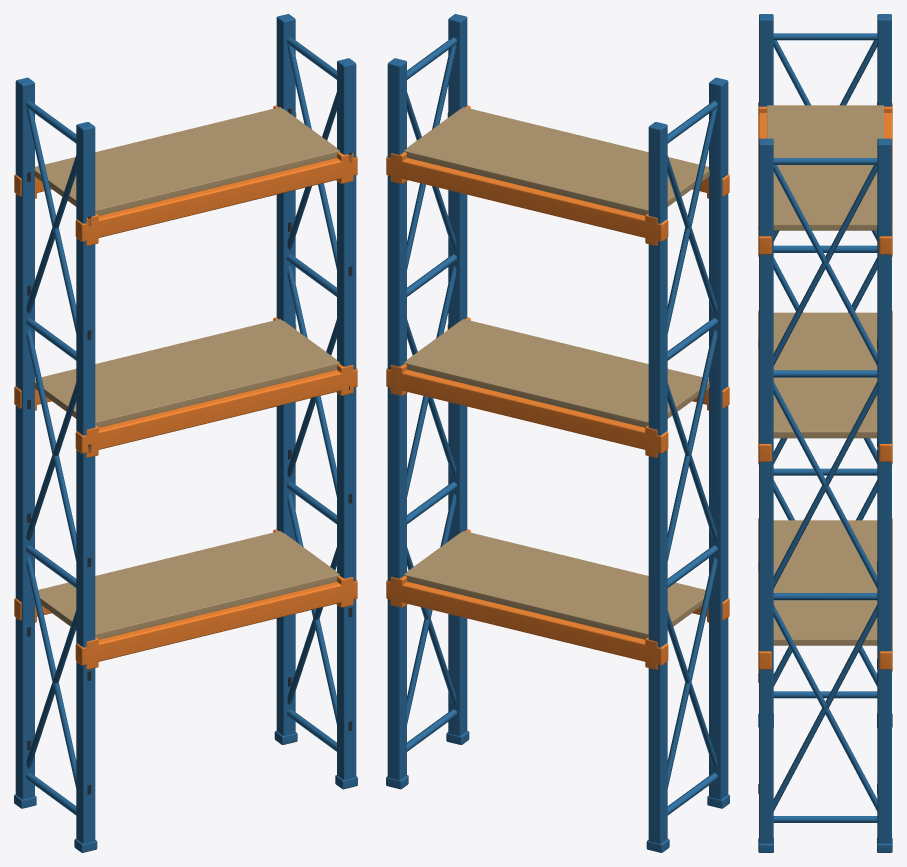
The model's file is SM_RackUnit.fbx.
3 renders of one model, left to right at view 1: azimuth 30°, elevation 25°; view 2: azimuth 150°, elevation 25°; view 3: azimuth 270°, elevation 25°, orthographic. The views are drawn at different scales.
Parts seen in each view (by area): view 1: SM_RackUnit; view 2: SM_RackUnit; view 3: SM_RackUnit.
Part boxes in pixels (x1,y1,x2,y2): SM_RackUnit: (14, 14, 357, 852); SM_RackUnit: (386, 14, 729, 852); SM_RackUnit: (758, 14, 892, 852).
Bounding box in the file's own units: 280 × 120 × 700.
